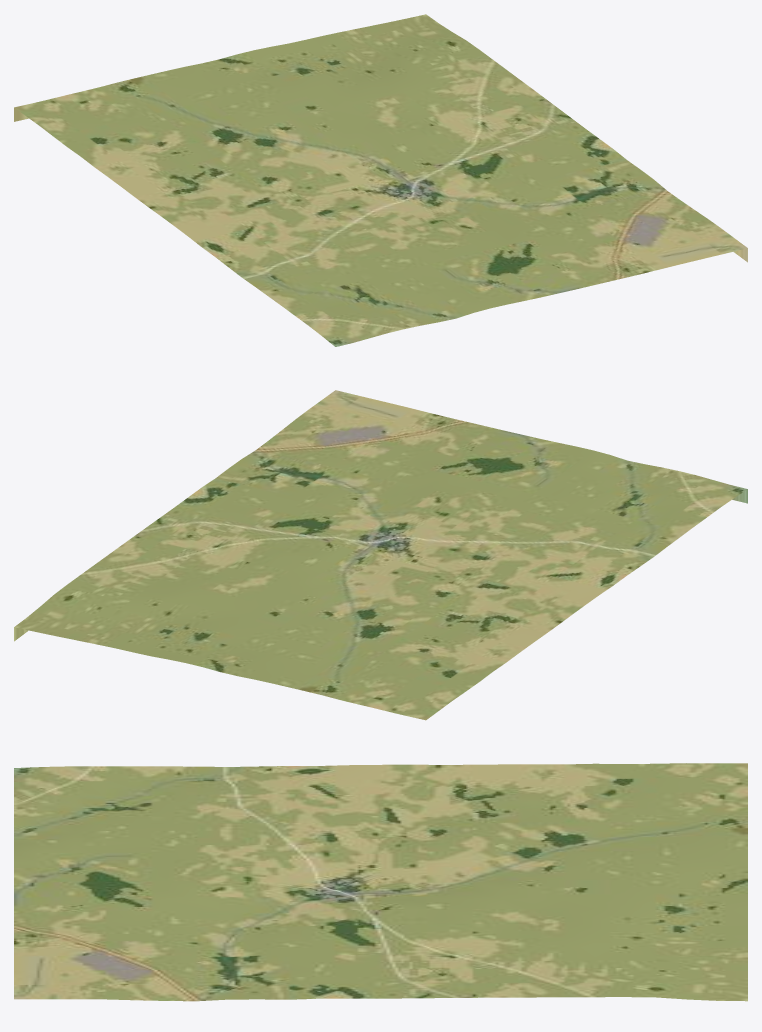
3 renders of one model, top to bottom at view 1: azimuth 30°, elevation 25°; view 2: azimuth 150°, elevation 25°; view 3: azimuth 270°, elevation 25°, orthographic. The views are drawn at different scales.
Size of the model in its own units: 3613 by 185 by 4883.
1 material, 1 textured.
